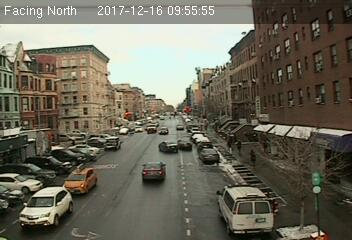car: (18, 185, 75, 227), (63, 164, 98, 194), (141, 162, 168, 181), (103, 136, 122, 151), (200, 148, 219, 162), (159, 141, 179, 154), (178, 139, 193, 152), (158, 126, 169, 136), (175, 123, 185, 131)
pedestrian: (248, 149, 259, 171), (235, 139, 243, 156)
police: (217, 181, 276, 234)
